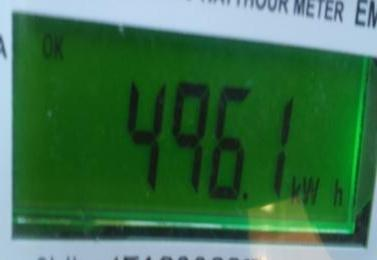.: (291, 172, 345, 210)
0: (240, 190, 252, 203)
2: (273, 89, 297, 213)
5: (123, 76, 168, 194)
7: (208, 82, 249, 201)
:: (171, 80, 211, 194)
